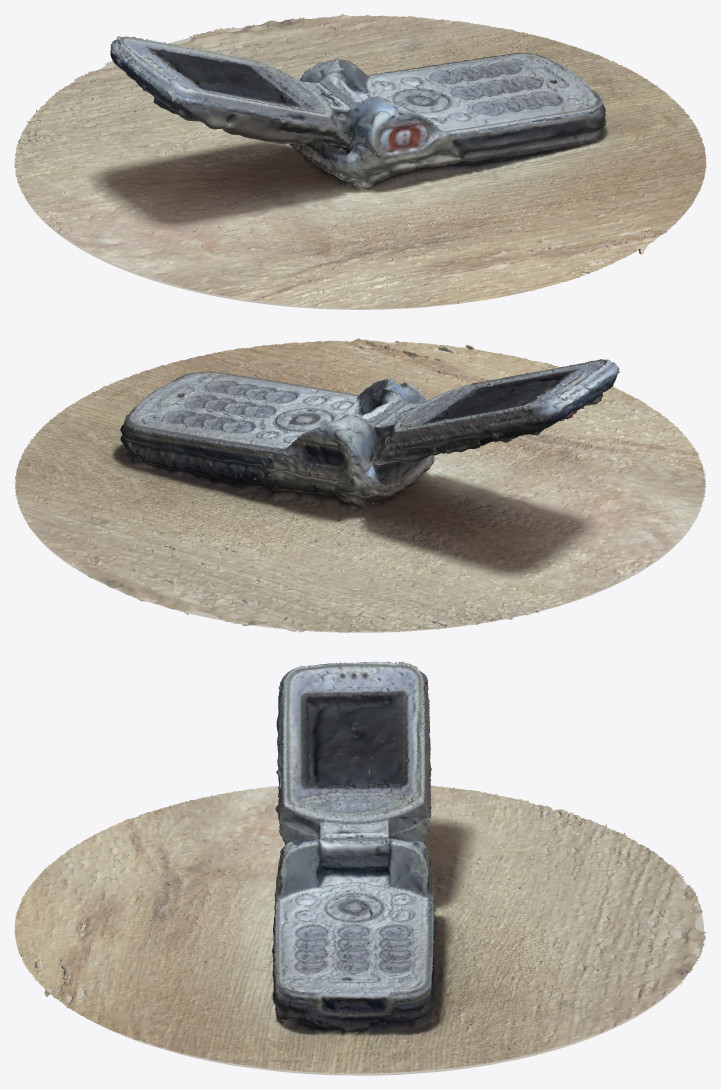
File: telefono.glb
The picture shows the model from 3 angles, top to bottom: view 1: azimuth 30°, elevation 25°; view 2: azimuth 150°, elevation 25°; view 3: azimuth 270°, elevation 25°; orthographic projection.
Parts seen in each view (by area): view 1: objeto, base_rellenada; view 2: objeto, base_rellenada; view 3: objeto, base_rellenada.
Boxes of the visible parts, box(x1,y1,x2,y2) form: objeto: box(14, 14, 706, 309); base_rellenada: box(16, 27, 697, 309); objeto: box(14, 338, 706, 632); base_rellenada: box(23, 342, 701, 632); objeto: box(14, 661, 706, 1073); base_rellenada: box(18, 804, 703, 1075).
Bounding box in the file's own units: 0.2137 × 0.0572 × 0.2137.
2 materials, 1 textured.
